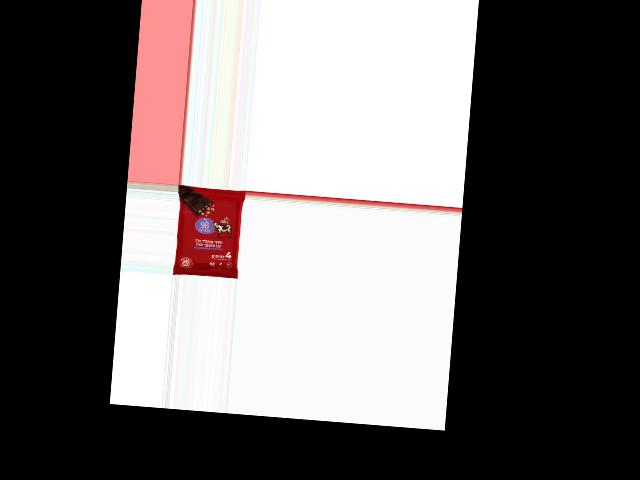chocolate: (174, 186, 245, 280)
